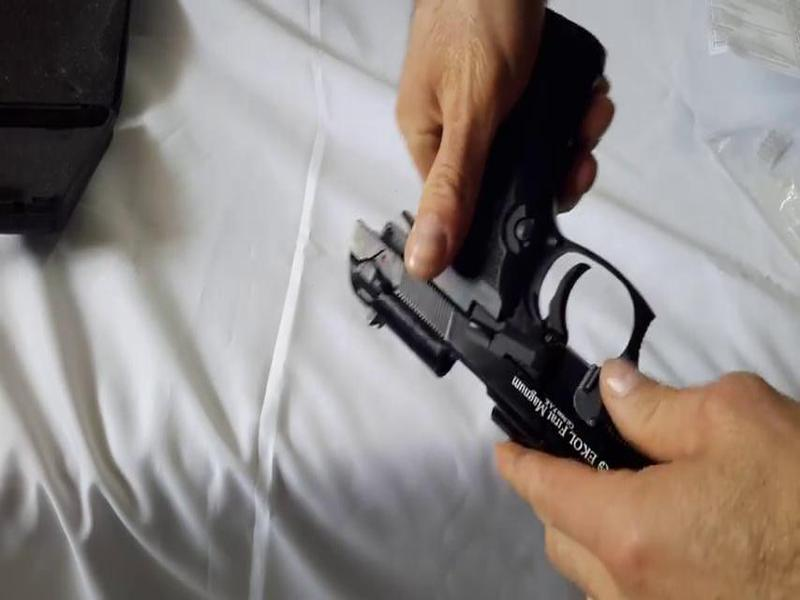Pistola: (312, 1, 729, 539)
